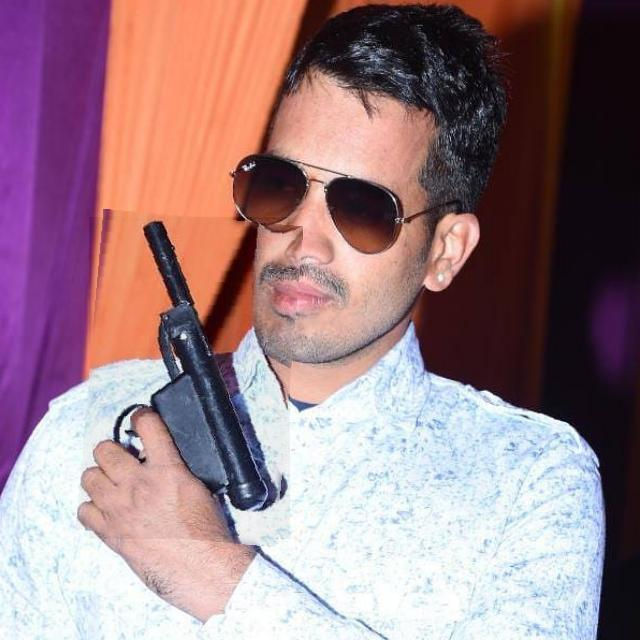handgun: (82, 213, 297, 543)
